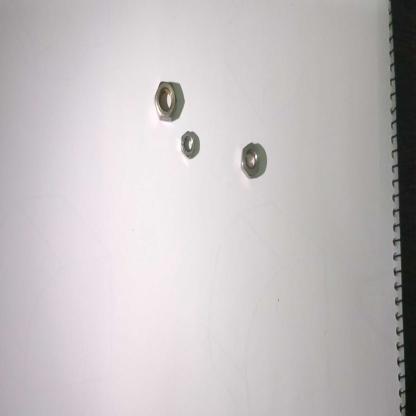NUTS: (238, 138, 262, 184), (152, 82, 178, 122)
